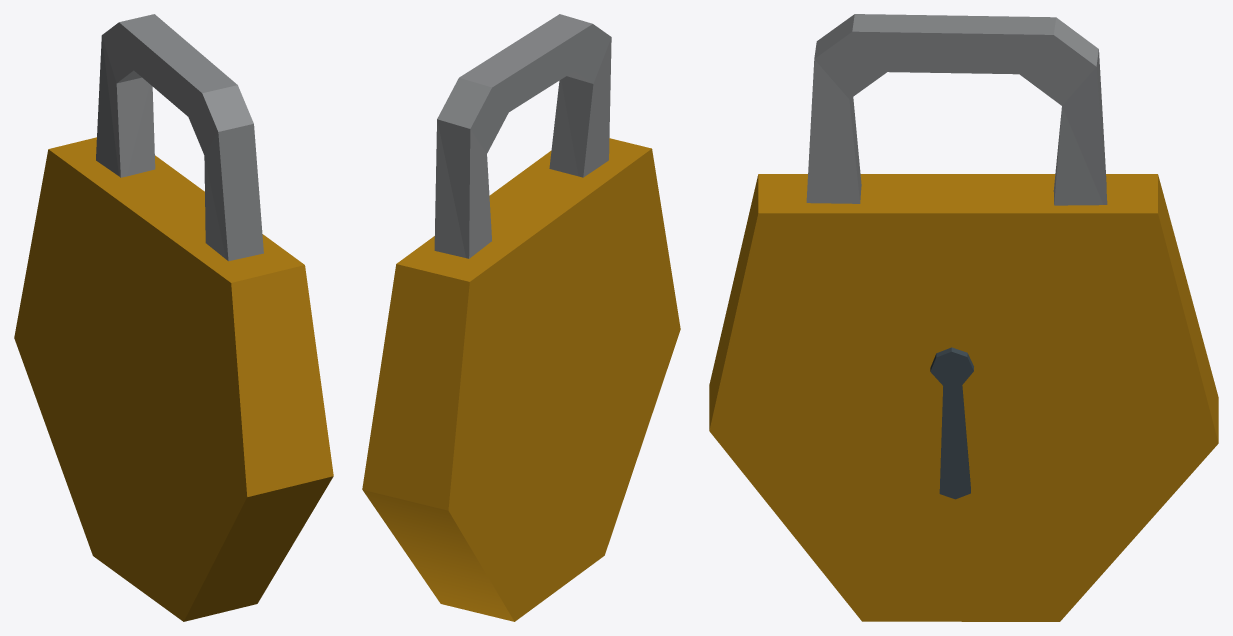
The model's file is Padlock.fbx.
3 views of the same model, side by side, from view 1: azimuth 30°, elevation 25°; view 2: azimuth 150°, elevation 25°; view 3: azimuth 270°, elevation 25° (orthographic). The views are drawn at different scales.
Parts seen in each view (by area): view 1: group331019317; view 2: group331019317; view 3: group331019317.
Boxes of the visible parts, left/top/right/bottom form: group331019317: left=14, top=14, right=333, bottom=621; group331019317: left=362, top=14, right=680, bottom=621; group331019317: left=709, top=14, right=1218, bottom=621.
Size of the model in its own units: 9.74 by 54.83 by 43.72.
